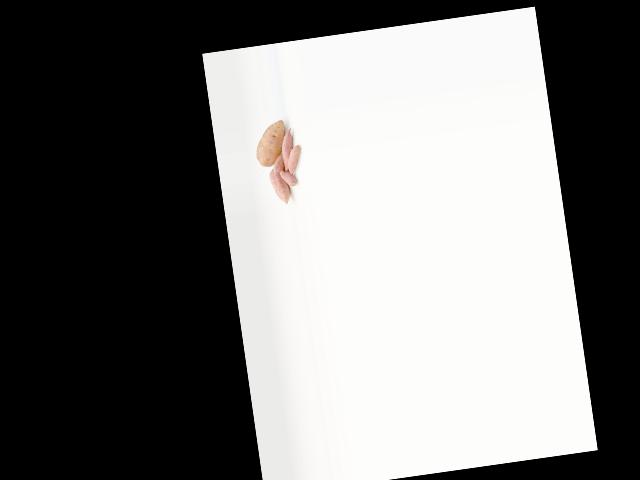sweet_potato: (268, 168, 291, 207)
